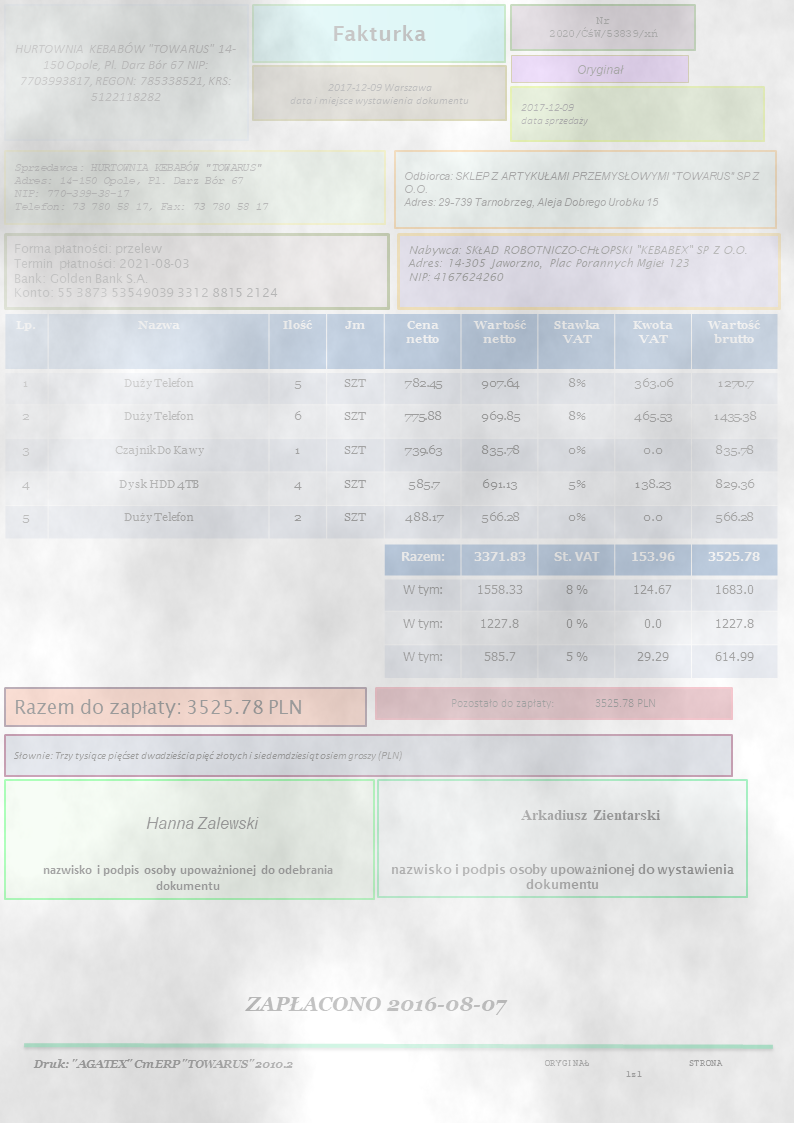Table: (3, 311, 780, 541), (382, 541, 779, 677)
TextBox: (399, 164, 763, 214), (403, 238, 751, 288), (9, 240, 280, 300), (12, 38, 239, 108), (9, 156, 272, 216), (387, 856, 739, 892), (38, 858, 339, 895), (8, 689, 305, 720), (242, 988, 512, 1020), (8, 744, 406, 765), (284, 76, 472, 109), (29, 1054, 300, 1076), (541, 1054, 725, 1083), (445, 691, 662, 713), (547, 11, 663, 42), (518, 804, 665, 828), (141, 807, 261, 836), (326, 19, 429, 45), (517, 98, 591, 132), (574, 59, 628, 78)
